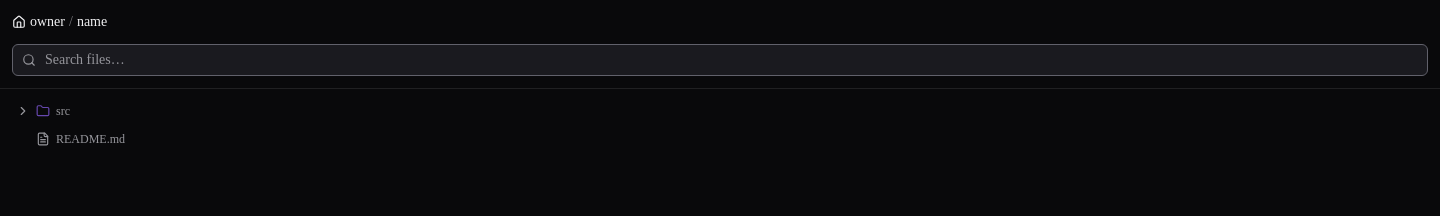
FileExplorer — search › clears the search with the clear button
The width and height of the screenshot is (1440, 216).
Type "queries" into the search field labelled "Search files…". click: (720, 60)
box: [12,44,1428,76]
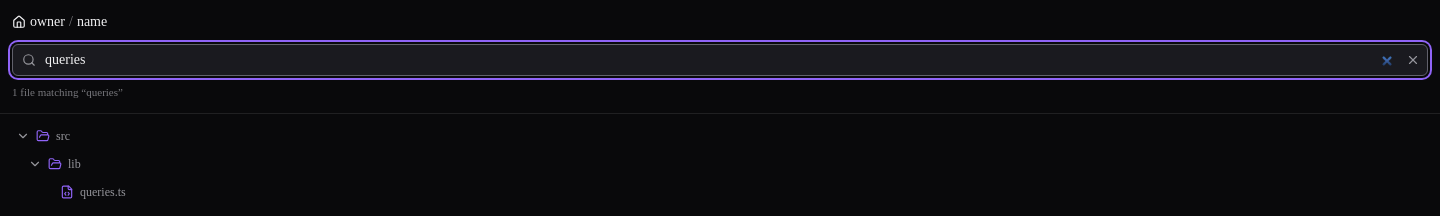
Click the button named "clear search". click: (1413, 60)
box: [1406,53,1420,67]
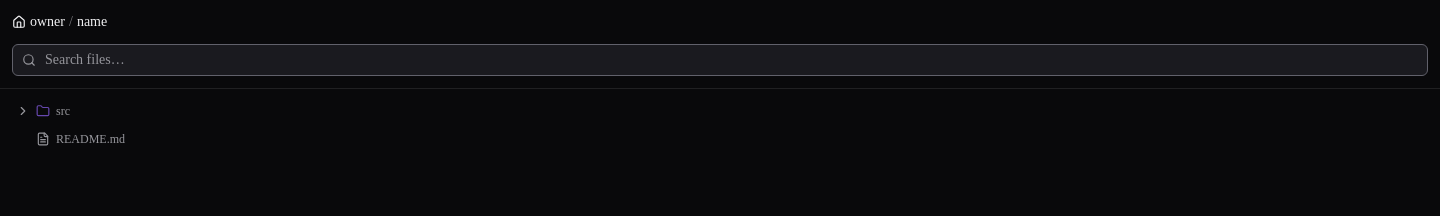
Check: the search field labelled "Search files…" is empty, box [12,44,1428,76]
Check: the list item "queries.ts" is gone
